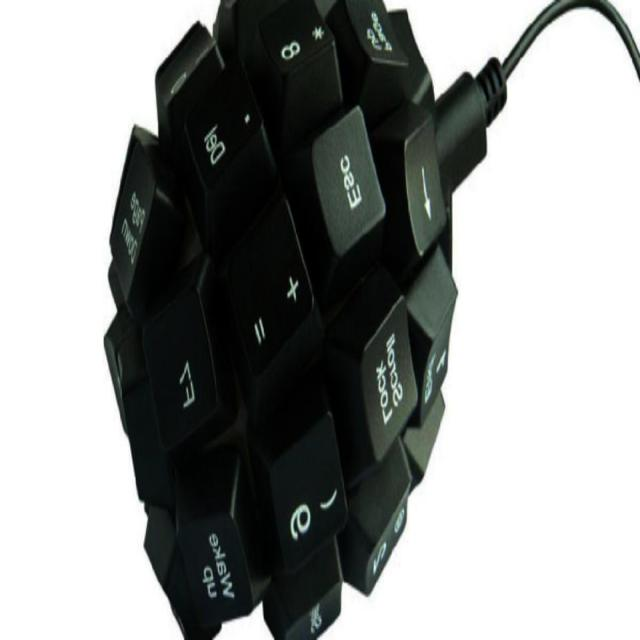grenade: (102, 0, 488, 639)
